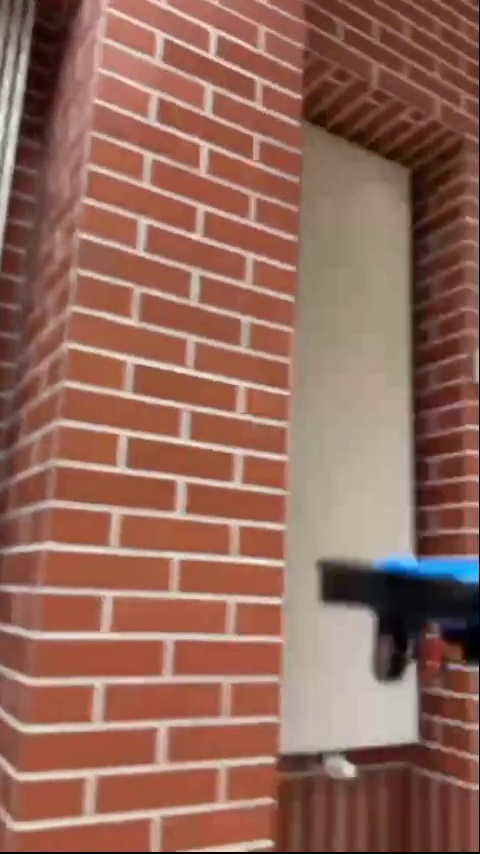drone: (315, 553, 480, 684)
